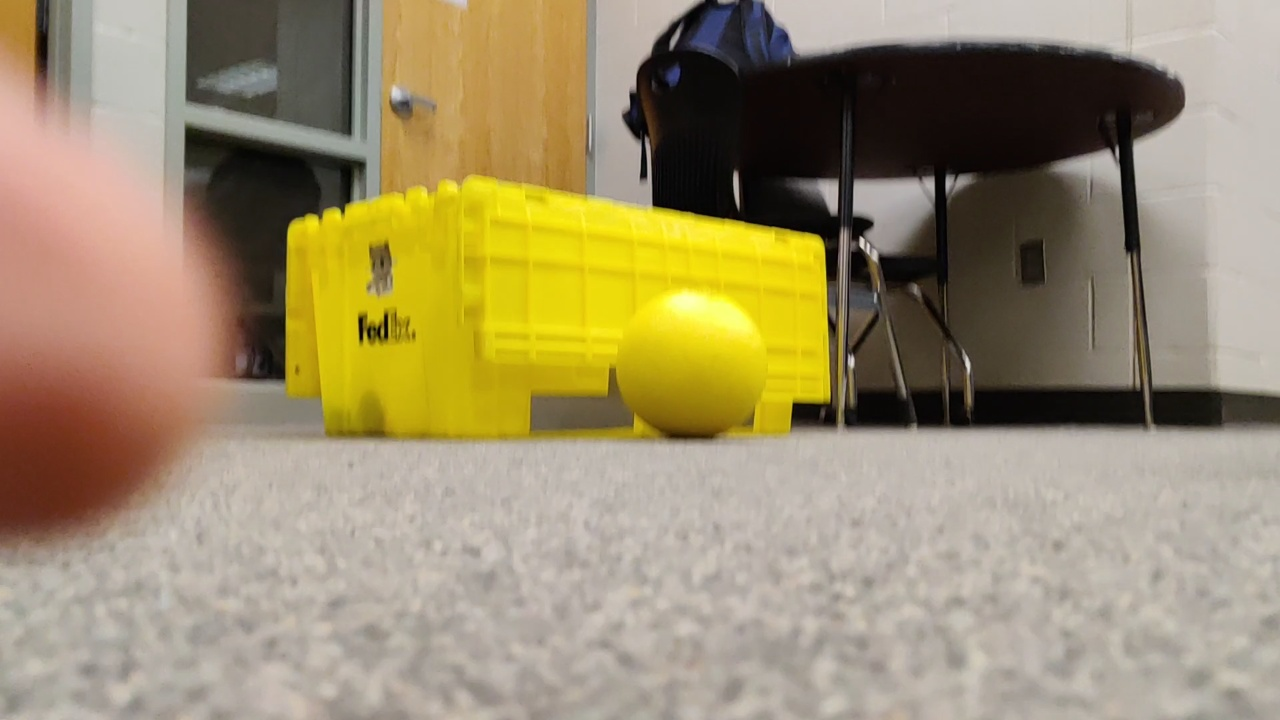Ball: (612, 287, 776, 436)
